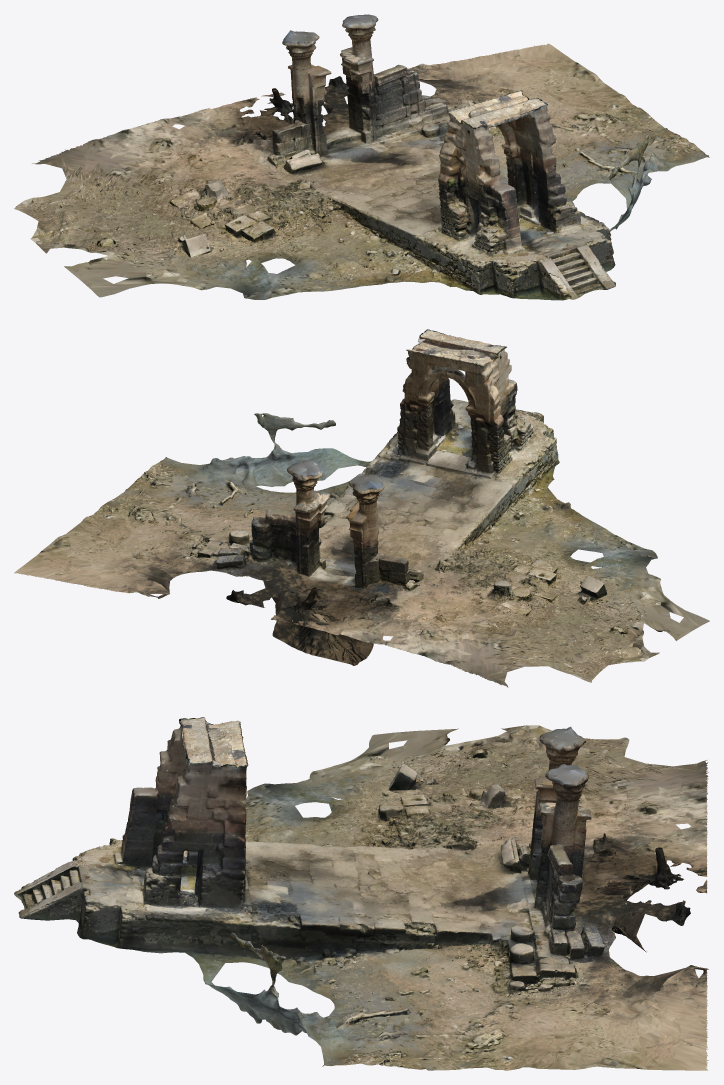
File: complete-site-sealed.glb
3 renders of one model, top to bottom at view 1: azimuth 30°, elevation 25°; view 2: azimuth 150°, elevation 25°; view 3: azimuth 270°, elevation 25°, orthographic. The views are drawn at different scales.
Visible parts, largest first — view 1: Gate, roof and surroundings · sealed; view 2: Gate, roof and surroundings · sealed; view 3: Gate, roof and surroundings · sealed.
Boxes of the visible parts, <box> form: Gate, roof and surroundings · sealed: <box>14,14,709,300</box>; Gate, roof and surroundings · sealed: <box>14,329,709,687</box>; Gate, roof and surroundings · sealed: <box>14,717,708,1070</box>.
Size of the model in its own units: 8.38 by 2.59 by 7.12.
Materials: 14 (12 with a texture image).
